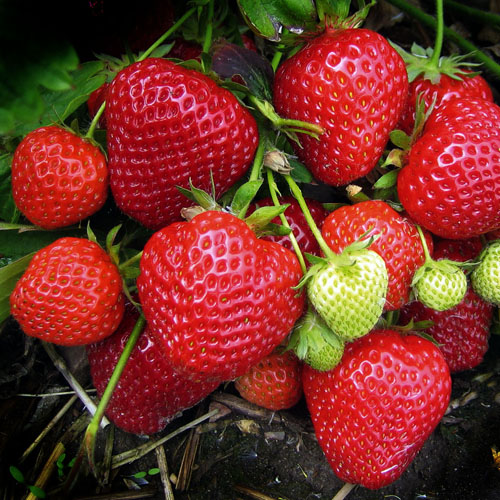ripe: (135, 204, 303, 385), (97, 57, 257, 223), (308, 319, 451, 490), (87, 292, 230, 441), (271, 28, 407, 183), (396, 80, 496, 238), (4, 235, 132, 346), (315, 194, 427, 309), (8, 124, 112, 230), (401, 61, 490, 156), (232, 343, 308, 414), (424, 300, 489, 372)
unripe: (304, 243, 389, 343), (290, 307, 348, 374), (412, 259, 468, 314), (469, 241, 498, 309)
